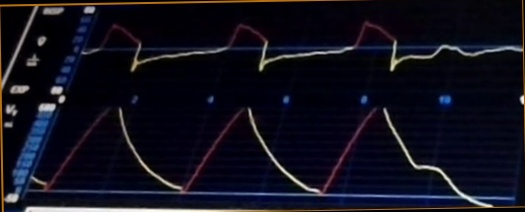Ineffective_effort Flow: (81, 17, 521, 76)
Ineffective_effort Volume: (27, 107, 499, 207)
